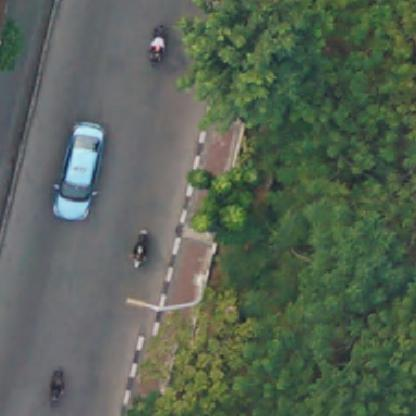Car: (52, 119, 108, 228)
Motorcycle: (146, 23, 168, 67), (46, 365, 69, 405), (129, 231, 151, 268)
